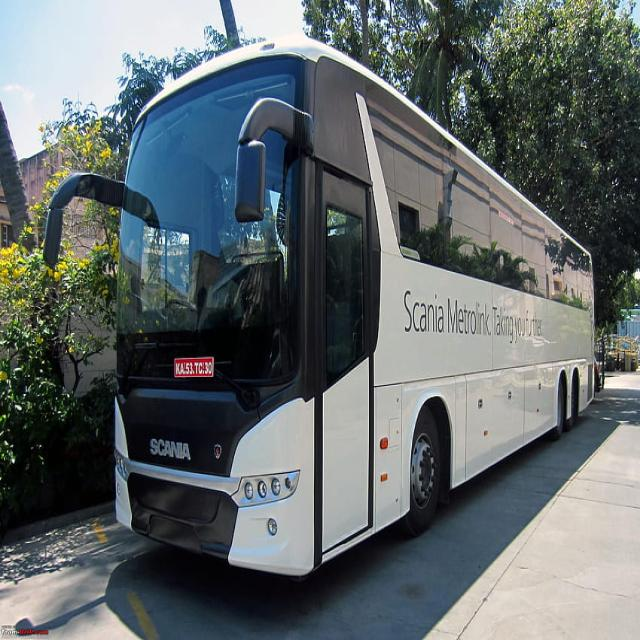bus: (44, 39, 594, 575)
